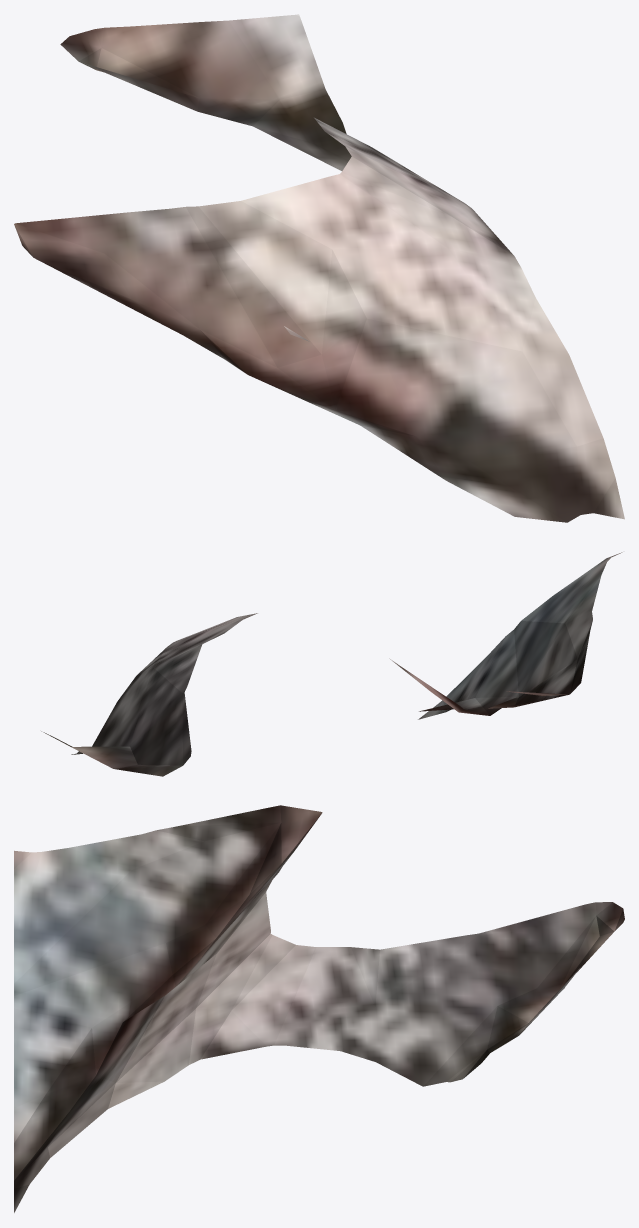
3 renders of one model, top to bottom at view 1: azimuth 30°, elevation 25°; view 2: azimuth 150°, elevation 25°; view 3: azimuth 270°, elevation 25°, orthographic. The views are drawn at different scales.
Size of the model in its own units: 0.225 by 0.1288 by 0.3169.
1 material, 1 textured.
